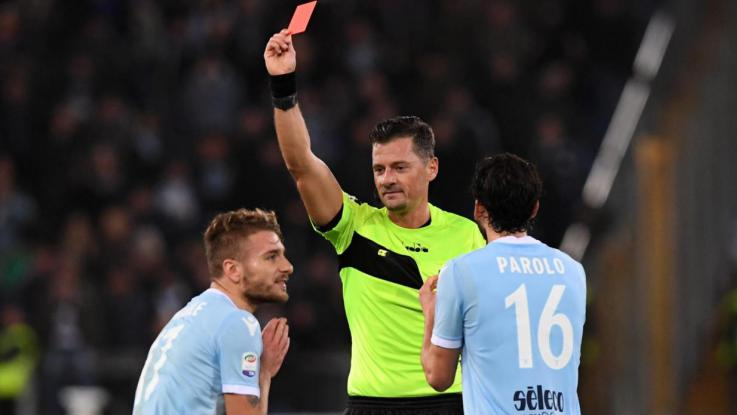red_card: (250, 0, 327, 78)
